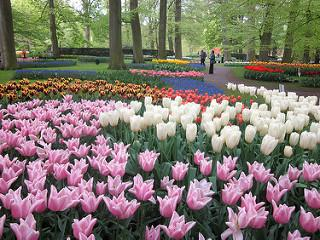tulip: (48, 185, 71, 213), (271, 199, 296, 224), (157, 194, 177, 218), (221, 183, 242, 205), (133, 182, 154, 202), (170, 161, 188, 181), (156, 120, 167, 142), (129, 115, 142, 133), (186, 122, 196, 143)
